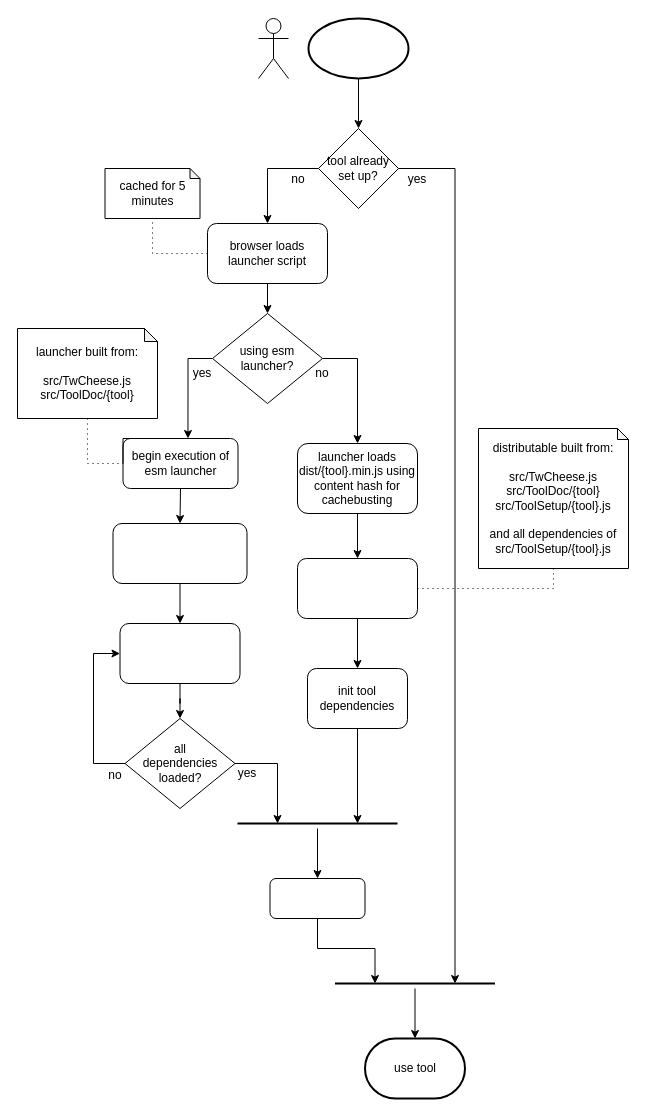
This 646x1116 diagram has some shape labels left out. The centre of each missing label's shape, as x and y in pixels:
begin execution of distributable: the point at 357,588
load module dependencies as discovered: the point at 179,653
load module src/ToolSetup/{tool}.js: the point at 179,553
player activates quickbar item: the point at 358,48
set up tool: the point at 317,898
